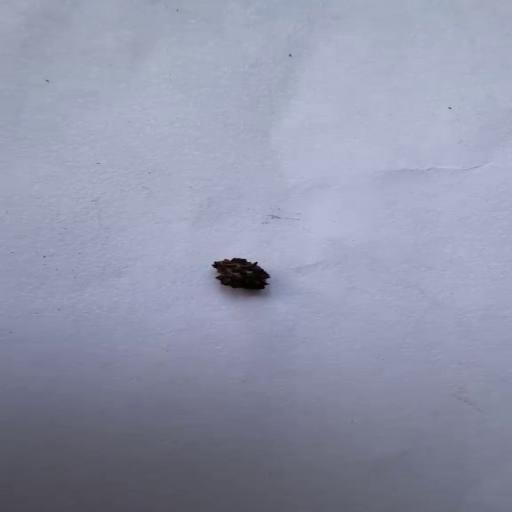papaya_seed: (211, 256, 272, 291)
